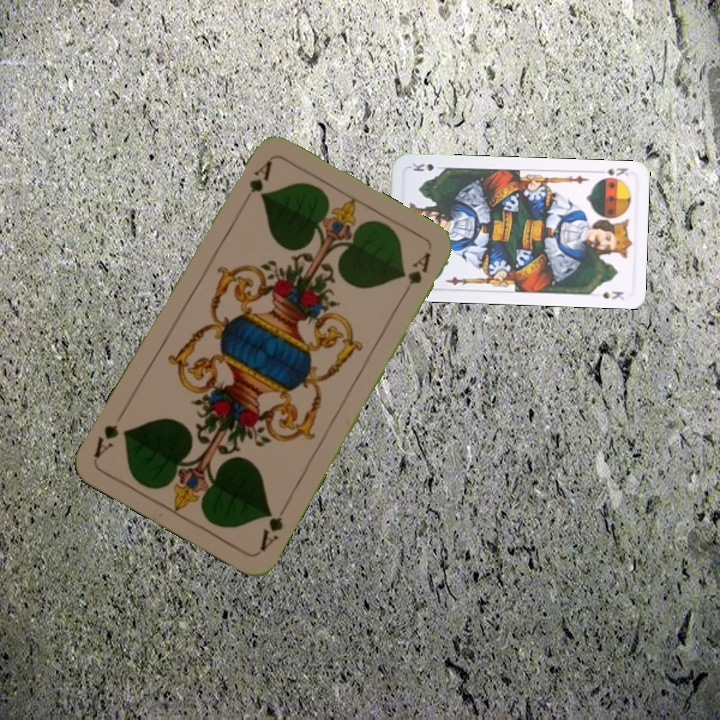GA: (255, 501, 291, 555), (245, 156, 275, 195)
SK: (593, 163, 631, 179)
